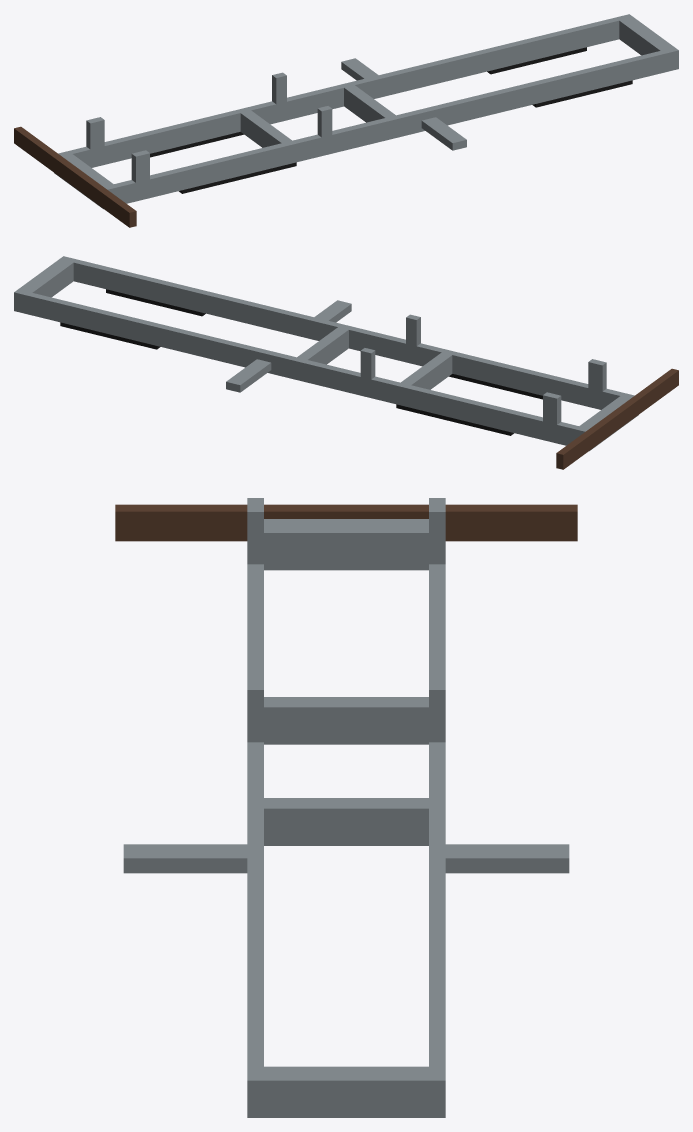
The model's file is technical_frame.glb.
The picture shows the model from 3 angles, top to bottom: view 1: azimuth 30°, elevation 25°; view 2: azimuth 150°, elevation 25°; view 3: azimuth 270°, elevation 25°; orthographic projection. The views are drawn at different scales.
Parts seen in each view (by area): view 1: body:compound; view 2: body:compound; view 3: body:compound.
Boxes of the visible parts, x1,y1,x2,y2 form: body:compound: (14,14,678,227); body:compound: (14,256,678,469); body:compound: (115,498,577,1117).
Size of the model in its own units: 5.09 by 0.4062 by 1.75.
